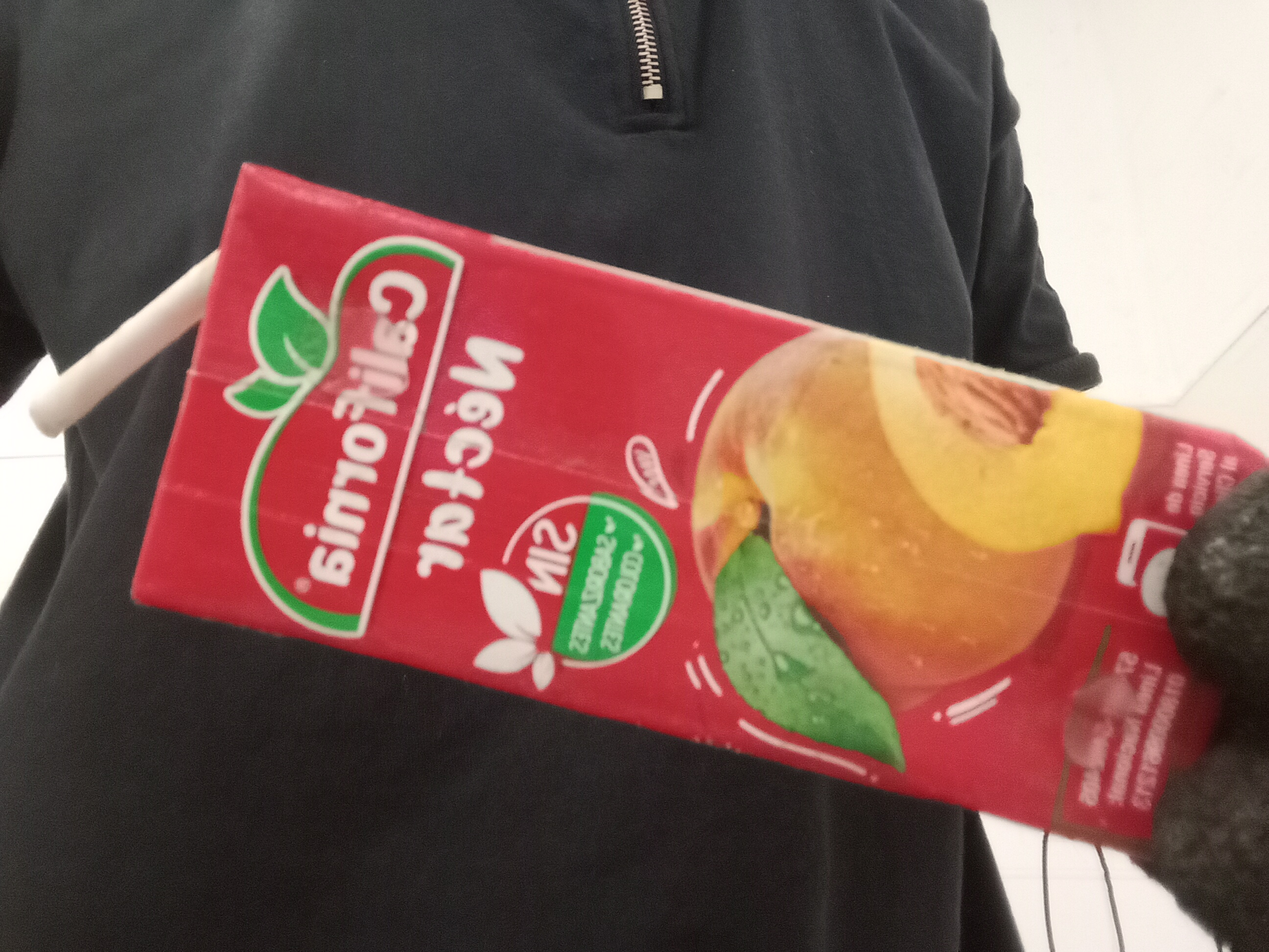Carton: (133, 159, 1269, 846)
